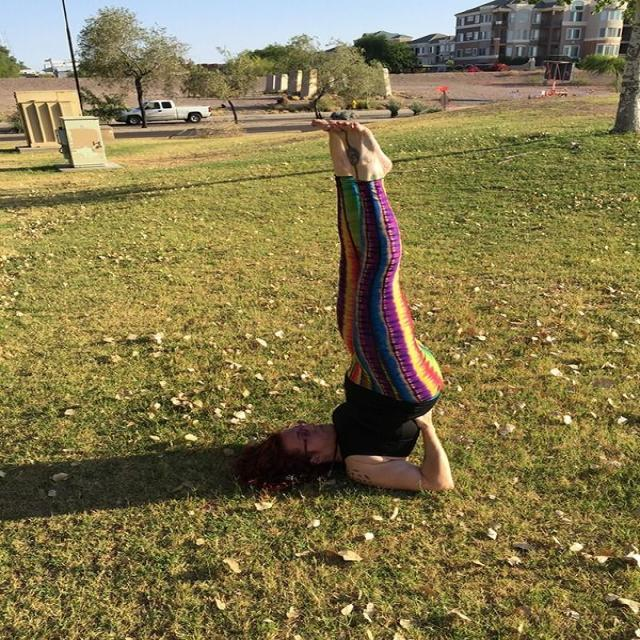yoga-pose shoulderstand: (252, 113, 468, 503)
